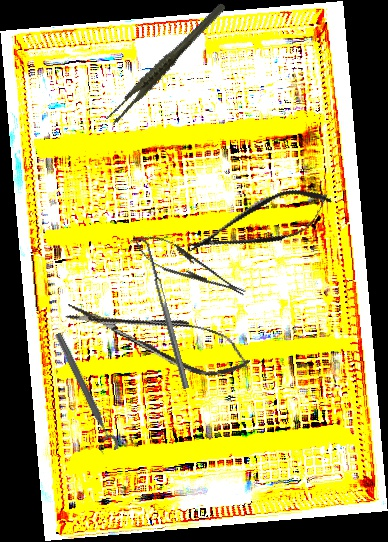Fixation Ring: (45, 330, 121, 457)
Micro Scissor: (60, 283, 256, 389), (180, 176, 339, 272)
Needle Holder: (125, 225, 252, 308)
Spatula Surgical: (136, 235, 190, 391)
Tissue Forceps: (88, 0, 245, 128)
